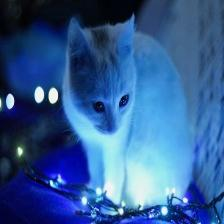kedo: (63, 12, 191, 212)
